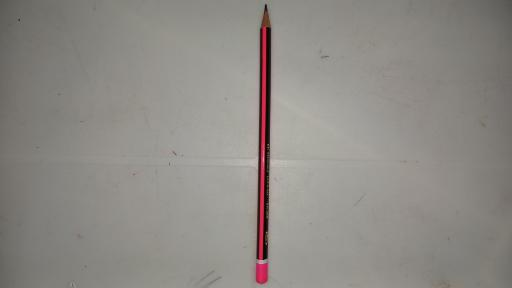Pencil: (254, 4, 274, 286)
